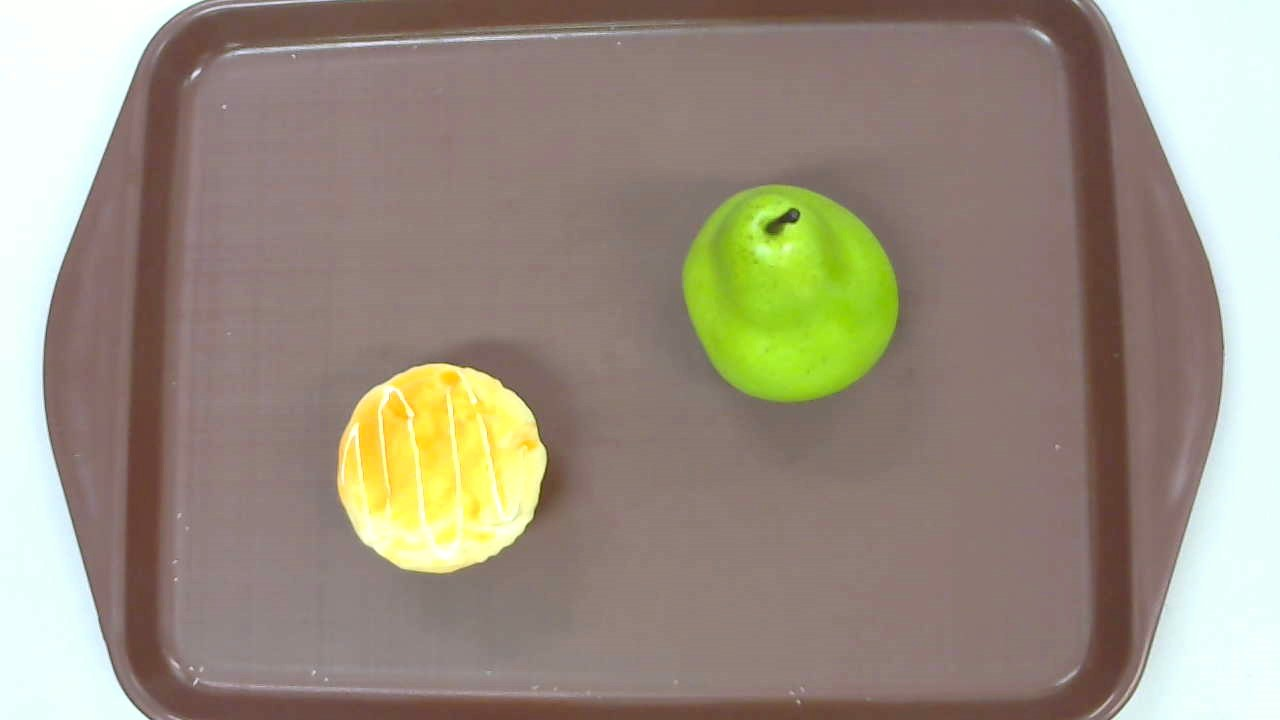cupcake: (337, 362, 547, 574)
green pear: (680, 186, 897, 403)
